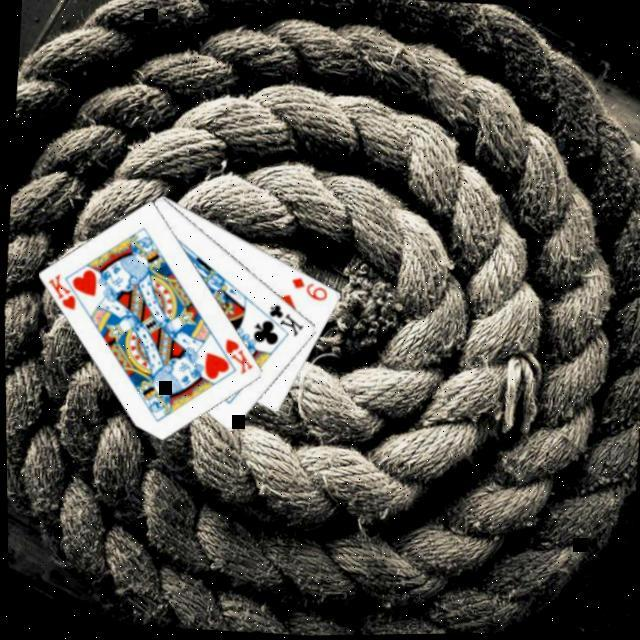9D: (285, 273, 329, 305)
KC: (254, 299, 305, 341)
KH: (217, 334, 256, 378), (42, 268, 80, 312)
